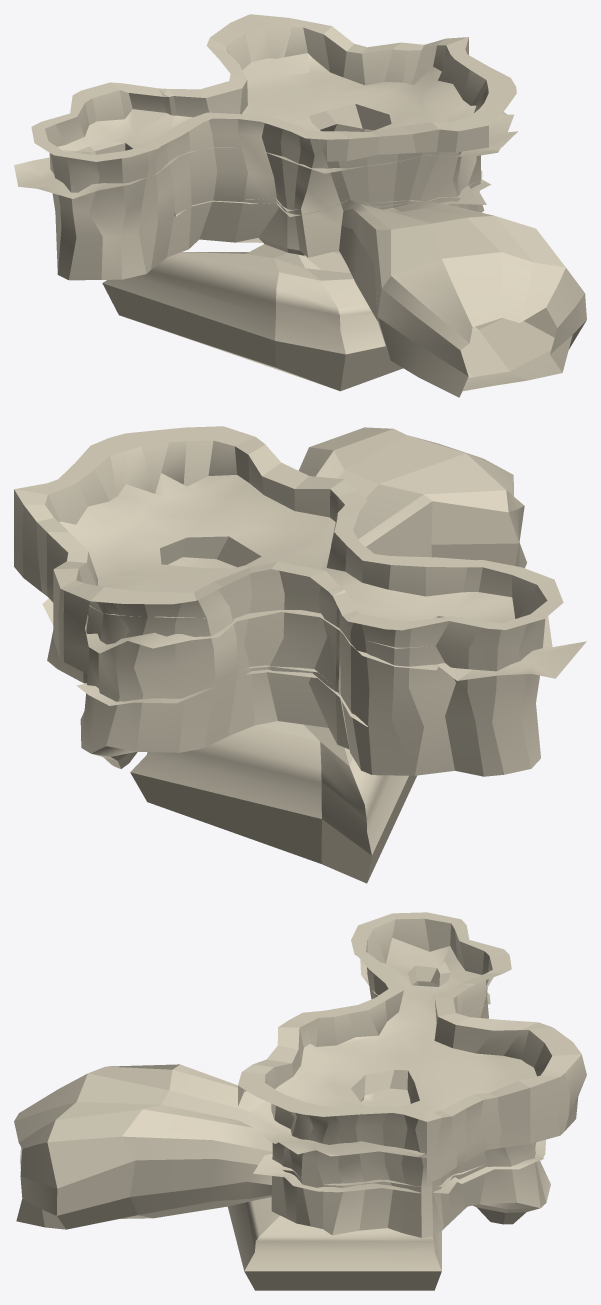
Rendered from MOME.P4.0020.01_Undergournd_Geo.fbx.
3 views of the same model, one above another, from view 1: azimuth 30°, elevation 25°; view 2: azimuth 150°, elevation 25°; view 3: azimuth 270°, elevation 25° (orthographic). The views are drawn at different scales.
Parts seen in each view (by area): view 1: Biome_Underground4, Floor_1, Floor_5; view 2: Biome_Underground4, Floor_1, Floor_5; view 3: Biome_Underground4, Floor_1, Floor_5.
Boxes of the visible parts, left/top/right/bottom form: Biome_Underground4: left=31, top=14, right=586, bottom=397; Floor_1: left=14, top=53, right=517, bottom=198; Floor_5: left=174, top=170, right=490, bottom=216; Biome_Underground4: left=14, top=426, right=563, bottom=883; Floor_1: left=59, top=473, right=586, bottom=680; Floor_5: left=42, top=557, right=368, bottom=726; Biome_Underground4: left=14, top=912, right=586, bottom=1290; Floor_1: left=248, top=938, right=536, bottom=1157; Floor_5: left=253, top=1088, right=545, bottom=1193.
Bounding box in the file's own units: 748 × 384 × 832.
